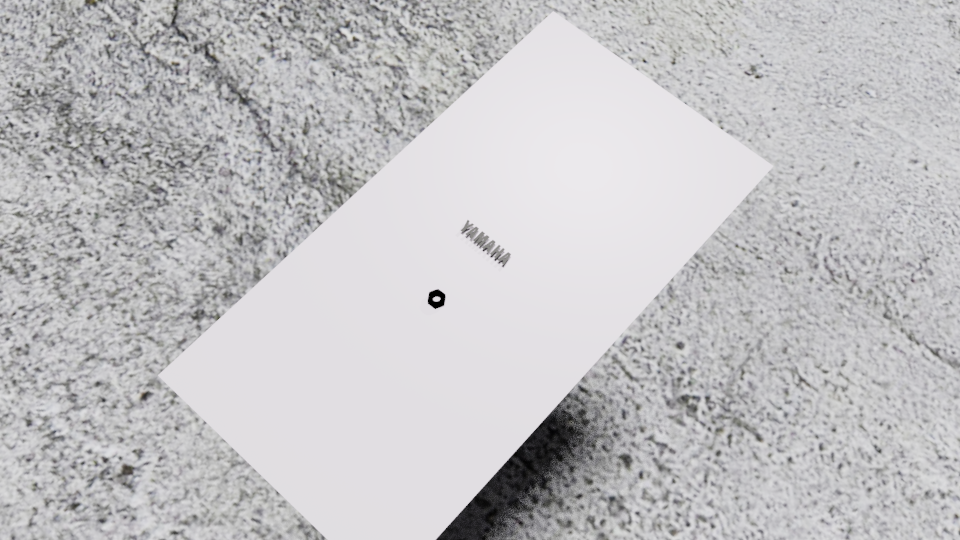yamaha_letters: (459, 218, 511, 265)
